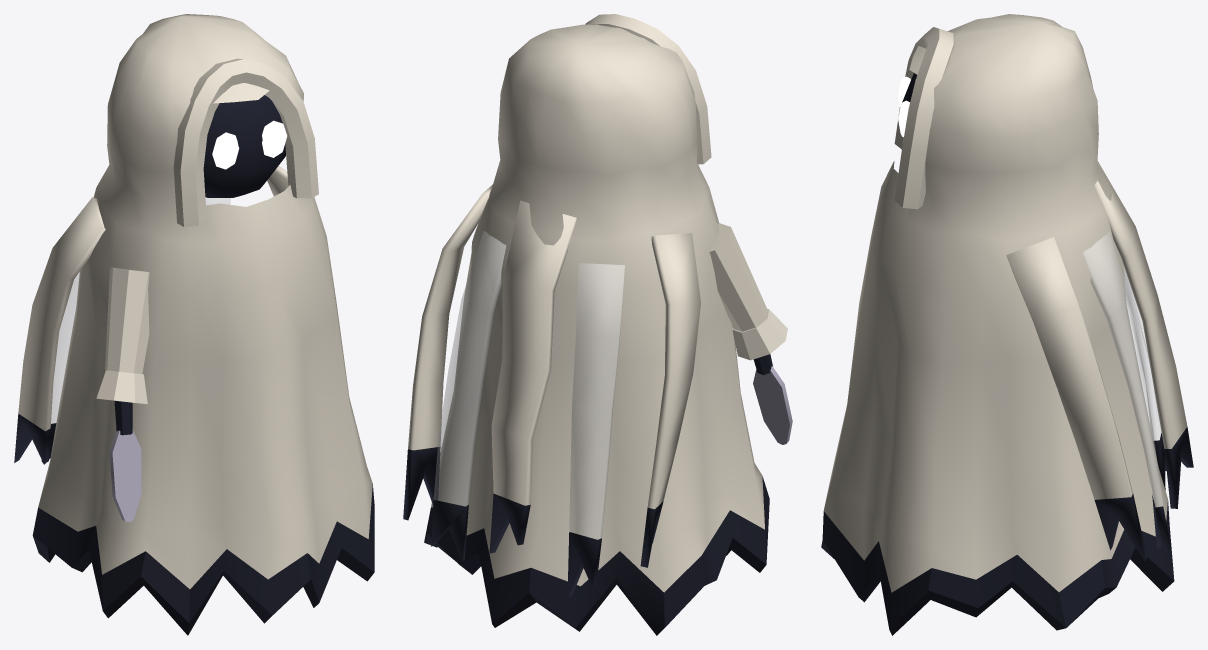
The model's file is enemy_ghost.glb.
3 views of the same model, side by side, from view 1: azimuth 30°, elevation 25°; view 2: azimuth 150°, elevation 25°; view 3: azimuth 270°, elevation 25° (orthographic). The views are drawn at different scales.
Visible parts, largest first — view 1: Body, Hem, HoodBrim, Arm, Strip_2, Face, Strip_4, Eyes; view 2: Body, Strip_0, Hem, Strip_4, Strip_3, Strip_2, Strip_1, Arm, HoodBrim; view 3: Body, Strip_1, Hem, Strip_0, Strip_3, HoodBrim, Strip_4.
Boxes of the visible parts, x1,y1,x2,y2 form: Body: (38,14,372,588); Hem: (32,484,374,635); HoodBrim: (173,58,318,226); Arm: (93,267,149,522); Strip_2: (14,197,105,463); Face: (203,95,285,197); Strip_4: (41,272,79,464); Eyes: (212,120,287,169); Body: (431,24,764,592); Strip_0: (489,200,576,553); Hem: (424,477,769,635); Strip_4: (567,263,624,597); Strip_3: (431,231,505,561); Strip_2: (640,233,700,567); Strip_1: (403,184,492,520); Arm: (709,223,792,444); HoodBrim: (585,14,711,164); Body: (823,14,1167,592); Strip_1: (1006,237,1147,561); Hem: (821,501,1174,635); Strip_0: (1094,161,1193,508); Strip_3: (1083,232,1171,551); HoodBrim: (894,27,954,209); Strip_4: (1123,265,1166,490).
Bounding box in the file's own units: 0.7912 × 1.44 × 0.8666.
